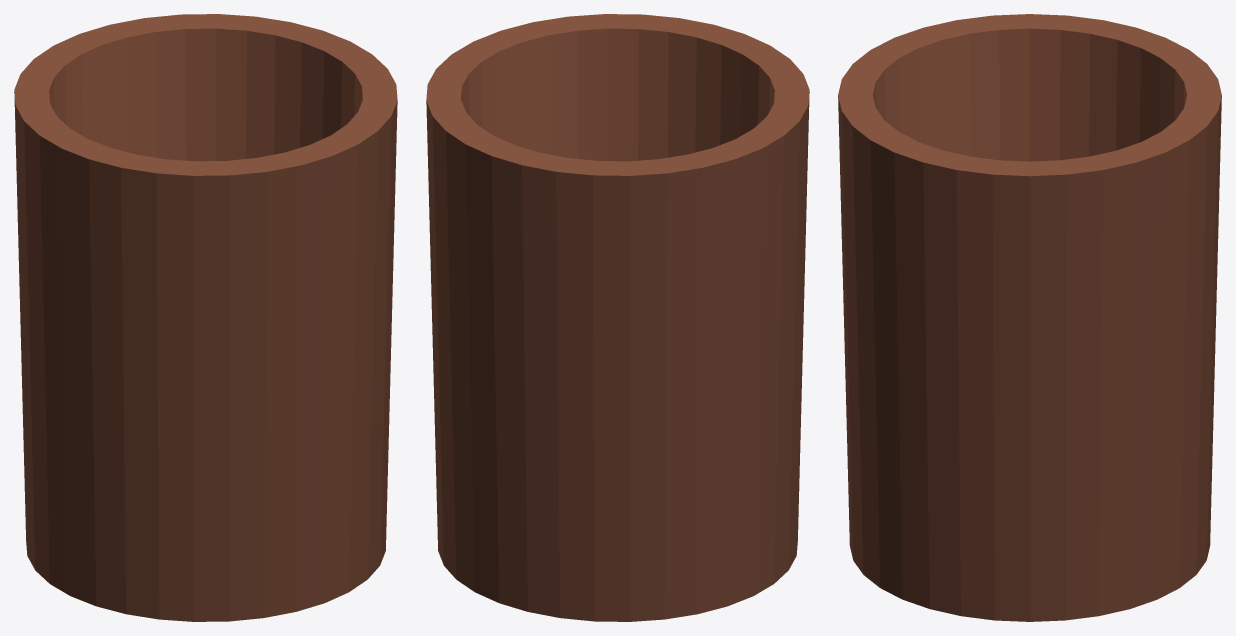
Rendered from cup.fbx.
The picture shows the model from 3 angles, left to right: view 1: azimuth 30°, elevation 25°; view 2: azimuth 150°, elevation 25°; view 3: azimuth 270°, elevation 25°; orthographic projection.
Visible parts, largest first — view 1: Cylinder; view 2: Cylinder; view 3: Cylinder.
Boxes of the visible parts, x1,y1,x2,y2 form: Cylinder: (14, 14, 397, 621); Cylinder: (426, 14, 809, 621); Cylinder: (838, 14, 1221, 621).
Size of the model in its own units: 213 by 276 by 213.
